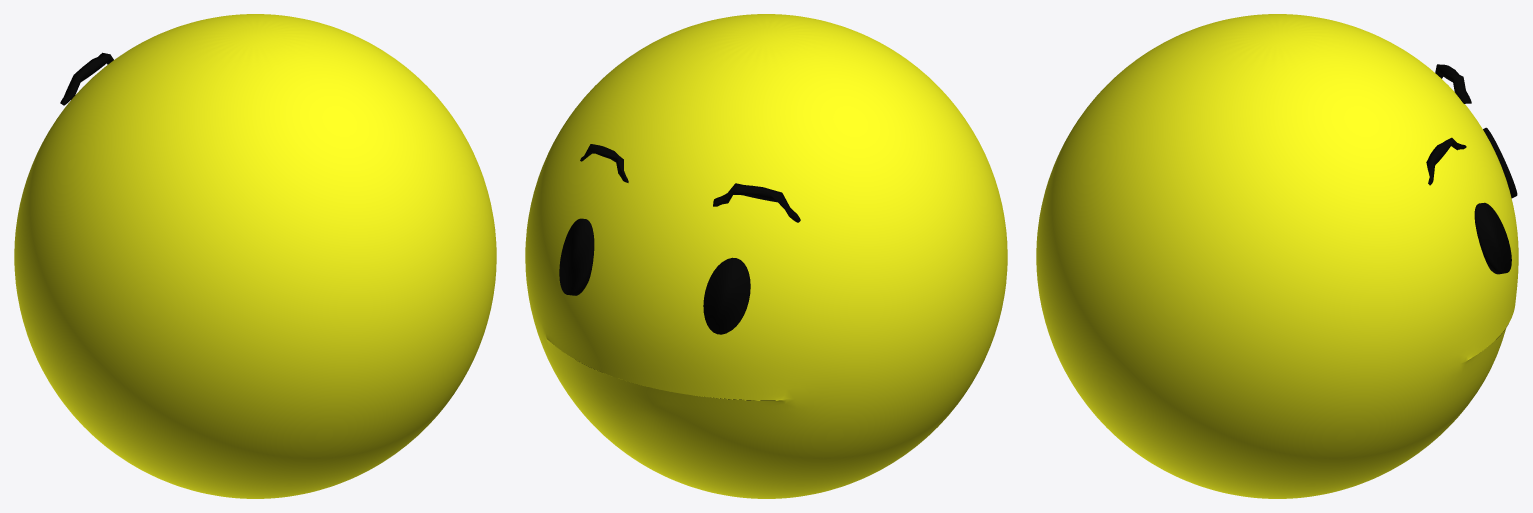
The model's file is [5] brows.obj.
3 views of the same model, side by side, from view 1: azimuth 30°, elevation 25°; view 2: azimuth 150°, elevation 25°; view 3: azimuth 270°, elevation 25° (orthographic).
Parts seen in each view (by area): view 1: head_Sphere.002, rightEyebrow_Cylinder.005; view 2: head_Sphere.002, rightEye_Cylinder.001, leftEye_Cylinder.002, rightEyebrow_Cylinder.005, leftEyebrow_Cylinder.003; view 3: head_Sphere.002, leftEye_Cylinder.002, rightEyebrow_Cylinder.005, leftEyebrow_Cylinder.003.
Boxes of the visible parts, <box> form: head_Sphere.002: <box>14,14,496,498</box>; rightEyebrow_Cylinder.005: <box>60,52,113,105</box>; head_Sphere.002: <box>525,14,1007,498</box>; rightEye_Cylinder.001: <box>703,257,750,334</box>; leftEye_Cylinder.002: <box>559,218,594,295</box>; rightEyebrow_Cylinder.005: <box>713,183,800,222</box>; leftEyebrow_Cylinder.003: <box>580,144,628,182</box>; head_Sphere.002: <box>1036,14,1518,498</box>; leftEye_Cylinder.002: <box>1474,202,1511,274</box>; rightEyebrow_Cylinder.005: <box>1435,64,1471,103</box>; leftEyebrow_Cylinder.003: <box>1426,137,1466,185</box>.
Size of the model in its own units: 3.65 by 3.69 by 3.65.
